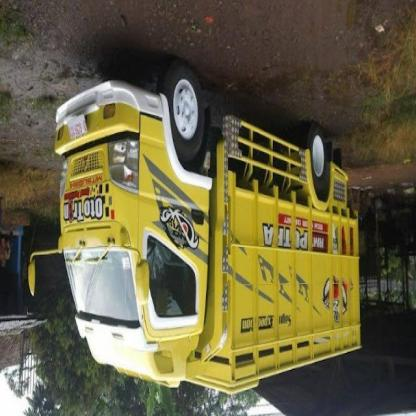truck: (30, 64, 362, 394)
